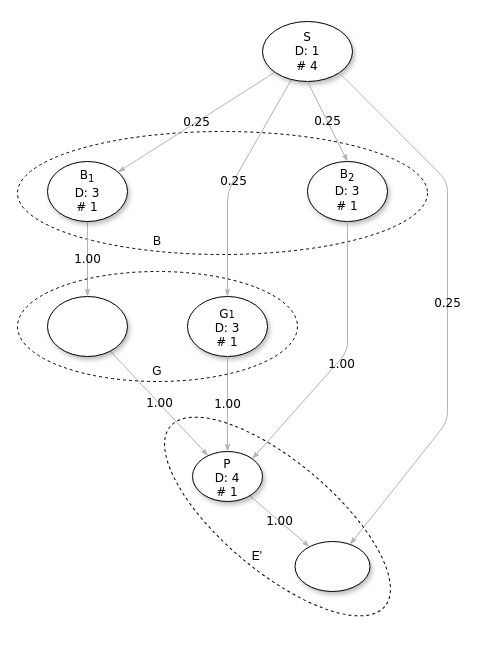
This 478x667 diagram has some shape labels left out. The centre of each missing label's shape, as x and y in pixels:
"E D: 1 # 1" goes at [333,567].
"G 2 D: 2 # 1" goes at [88,328].
